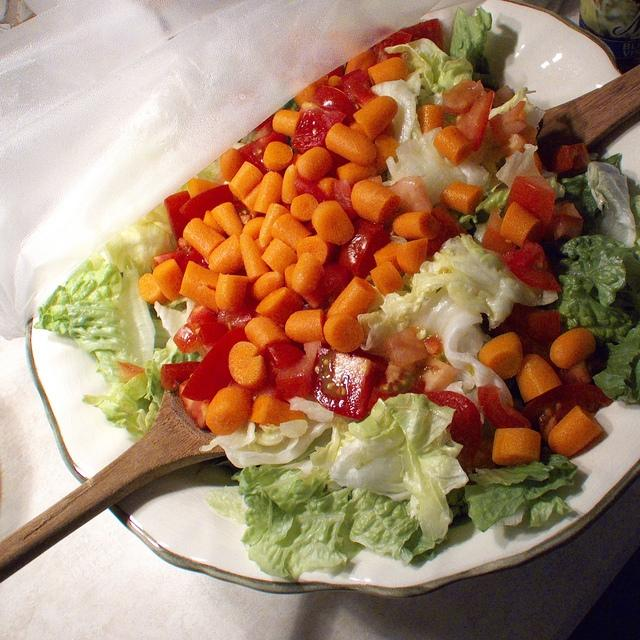carrot: (548, 405, 603, 457), (515, 354, 563, 404), (350, 179, 400, 224), (326, 276, 376, 320), (326, 122, 376, 166), (206, 386, 250, 436), (180, 260, 220, 314), (479, 332, 523, 379), (256, 287, 304, 329), (353, 96, 398, 140), (183, 218, 226, 264), (549, 328, 596, 370), (311, 200, 355, 244), (244, 316, 292, 356), (492, 427, 541, 466), (228, 342, 268, 389), (500, 202, 540, 248), (250, 394, 306, 426), (433, 125, 474, 167), (271, 214, 312, 254), (439, 180, 484, 216), (324, 312, 364, 352), (260, 236, 298, 278), (240, 232, 270, 283), (258, 202, 291, 248), (208, 233, 244, 275), (284, 310, 328, 344), (291, 252, 324, 296), (228, 162, 264, 202), (296, 233, 342, 264), (152, 258, 184, 302), (214, 272, 248, 312), (394, 211, 441, 239), (294, 147, 332, 181), (253, 171, 283, 214), (431, 204, 468, 238), (210, 202, 243, 240), (370, 260, 404, 296), (369, 57, 409, 85), (374, 132, 399, 176), (138, 272, 170, 306), (250, 272, 284, 302), (336, 162, 376, 187), (374, 242, 404, 274), (262, 141, 292, 171), (290, 193, 318, 223), (416, 104, 445, 132), (345, 48, 376, 74), (426, 228, 451, 260), (272, 110, 300, 138), (186, 178, 222, 199), (220, 148, 242, 182), (281, 164, 298, 204), (294, 82, 318, 110), (203, 210, 226, 238), (242, 217, 265, 241), (314, 178, 338, 200), (328, 76, 342, 88)
lettuce: (203, 428, 420, 582), (356, 232, 558, 350), (331, 392, 468, 540), (34, 258, 156, 366), (408, 286, 495, 386), (382, 127, 490, 207), (464, 466, 579, 533), (89, 202, 178, 280), (82, 360, 165, 443), (557, 234, 626, 308), (557, 274, 631, 342), (592, 325, 639, 399), (554, 174, 598, 236), (404, 38, 454, 84), (524, 490, 572, 528), (476, 173, 512, 213), (496, 504, 530, 526), (546, 176, 566, 202)
tomato: (312, 346, 388, 420), (182, 327, 250, 402), (422, 390, 482, 470), (520, 384, 614, 422), (504, 175, 556, 242), (338, 218, 390, 282), (501, 240, 562, 292), (456, 88, 494, 152), (478, 384, 532, 429), (187, 302, 230, 358), (238, 131, 288, 179), (292, 108, 344, 154), (505, 304, 561, 346), (384, 326, 429, 375), (179, 184, 234, 221), (302, 264, 348, 308), (310, 85, 356, 127), (488, 101, 528, 148), (548, 143, 590, 185), (340, 67, 379, 111), (481, 207, 517, 254), (442, 78, 487, 115), (276, 356, 312, 401), (163, 190, 191, 244), (430, 202, 467, 238), (402, 19, 443, 51), (372, 32, 412, 64), (160, 361, 200, 392), (260, 342, 306, 368), (217, 300, 254, 330), (545, 214, 584, 242), (333, 179, 359, 219), (172, 322, 203, 353), (295, 175, 328, 203), (154, 246, 192, 266)
